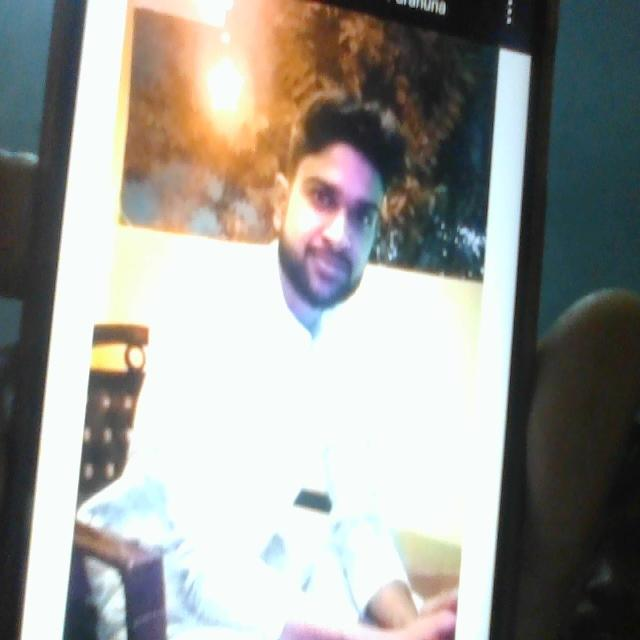fake: (267, 72, 391, 307)
